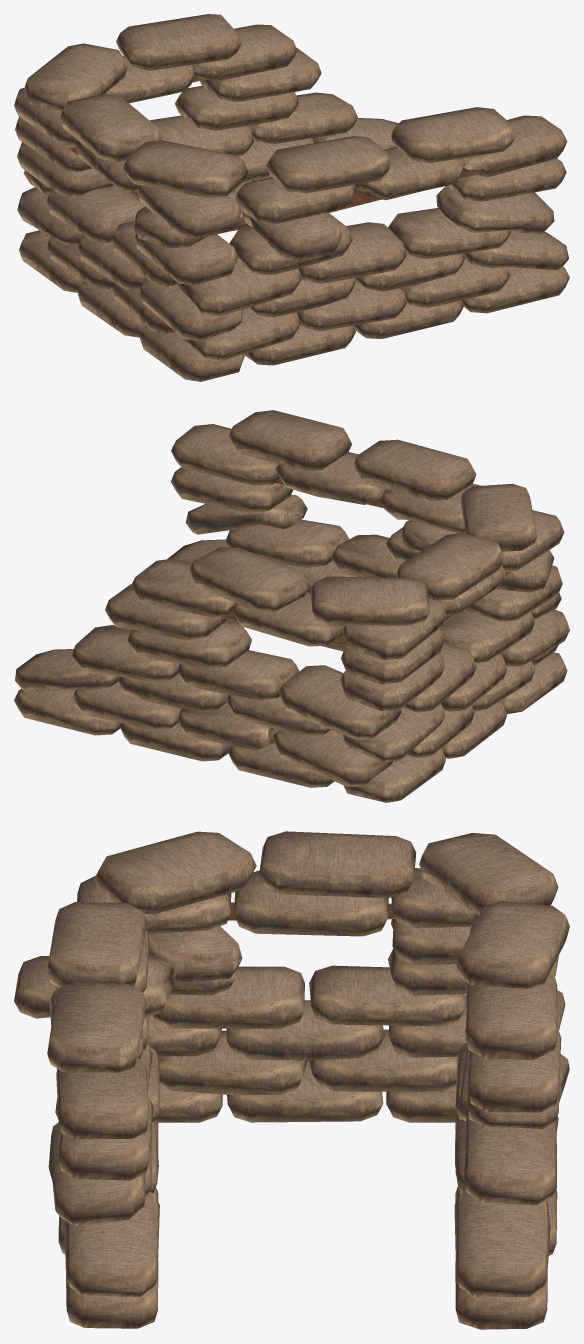
The model's file is base_sb_nest.glb.
3 renders of one model, top to bottom at view 1: azimuth 30°, elevation 25°; view 2: azimuth 150°, elevation 25°; view 3: azimuth 270°, elevation 25°, orthographic. The views are drawn at different scales.
Visible parts, largest first — view 1: base_sb_nest; view 2: base_sb_nest; view 3: base_sb_nest.
Boxes of the visible parts, x1,y1,x2,y2 form: base_sb_nest: (14, 14, 569, 381); base_sb_nest: (14, 410, 569, 802); base_sb_nest: (14, 831, 569, 1329).
Size of the model in its own units: 8.49 by 4 by 7.77.
1 material, 1 textured.
